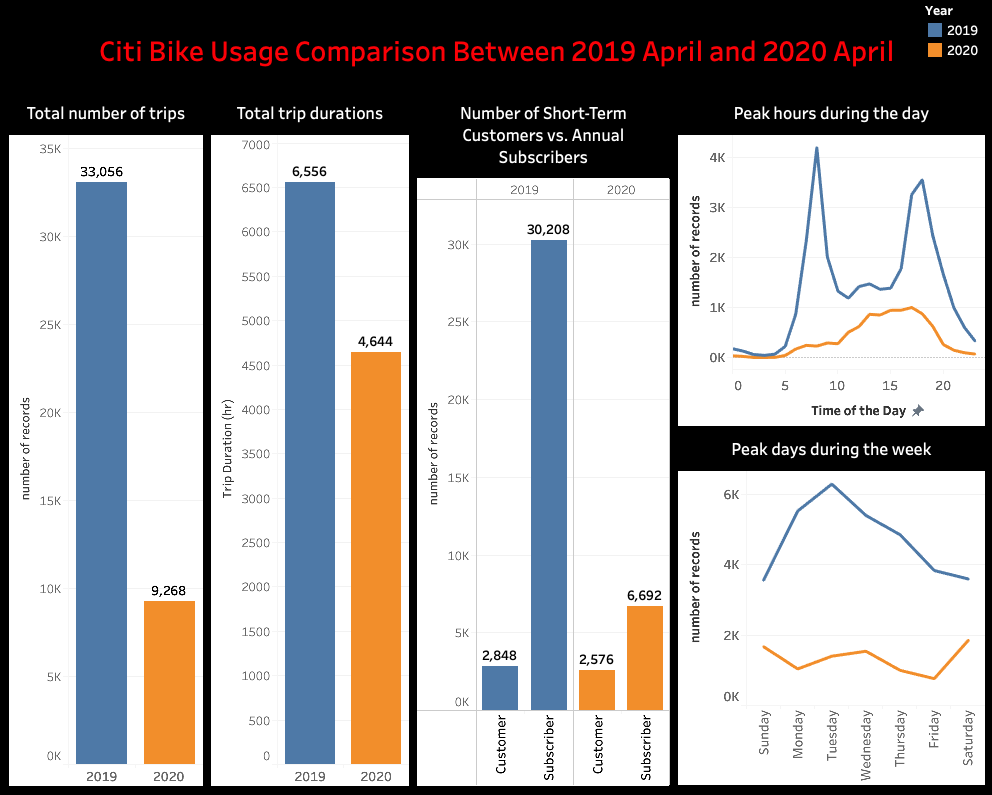

The dashboard page shown, as its layout file describes it:
{"tool":"tableau","page":{"name":"YearComparison","canvas":[1000,800],"ordinal":3},"visuals":[{"type":"worksheet","box":[0,0,1000,800]},{"type":"worksheet","title":"total trip duration","mark":"Bar","rows":["Calculation_1009580400850481153"],"cols":["starttime"],"param":"[federated.1u2xchn0cxnp1e1ckx9i2159srjd].[yr:starttime:ok]","box":[928,3,69,64]},{"type":"worksheet","param":"horz","box":[8,8,984,784]},{"type":"worksheet","param":"vert","box":[8,8,984,784]},{"type":"worksheet","box":[8,8,984,88]},{"type":"worksheet","param":"horz","box":[8,96,984,696]},{"type":"worksheet","box":[8,96,984,696]},{"type":"worksheet","param":"horz","box":[8,96,408,696]},{"type":"worksheet","title":"number of trips","mark":"Bar","rows":["Calculation_1009580400846733312"],"cols":["starttime"],"box":[8,96,202,696]},{"type":"worksheet","title":"total trip duration","mark":"Bar","rows":["Calculation_1009580400850481153"],"cols":["starttime"],"box":[210,96,206,696]},{"type":"worksheet","param":"horz","box":[416,96,261,696]},{"type":"worksheet","title":"usertype","mark":"Bar","rows":["Calculation_1009580400846733312"],"cols":["starttime","usertype"],"box":[416,96,261,696]},{"type":"worksheet","param":"vert","box":[677,96,315,696]},{"type":"worksheet","param":"horz","box":[677,96,315,696]},{"type":"worksheet","param":"vert","box":[677,96,315,696]},{"type":"worksheet","title":"peak hours","mark":"Automatic","rows":["Calculation_1009580400846733312"],"cols":["starttime"],"box":[677,96,315,336.5]},{"type":"worksheet","param":"vert","box":[677,432.5,315,359.5]},{"type":"worksheet","title":"peak days","mark":"Automatic","rows":["Calculation_1009580400846733312"],"cols":["starttime"],"box":[677,432.5,315,359.5]}]}

Visuals, with their boxes in screenshot pixels (x1, y1, x2, y2), scaled from the page's 1000x800 canvas onto the 992x795 screenshot:
worksheet: 0/0/991/794
"total trip duration" worksheet (Bar marks): 921/3/989/67
worksheet: 8/8/984/787
worksheet: 8/8/984/787
worksheet: 8/8/984/95
worksheet: 8/95/984/787
worksheet: 8/95/984/787
worksheet: 8/95/413/787
"number of trips" worksheet (Bar marks): 8/95/208/787
"total trip duration" worksheet (Bar marks): 208/95/413/787
worksheet: 413/95/672/787
"usertype" worksheet (Bar marks): 413/95/672/787
worksheet: 672/95/984/787
worksheet: 672/95/984/787
worksheet: 672/95/984/787
"peak hours" worksheet: 672/95/984/430
worksheet: 672/430/984/787
"peak days" worksheet: 672/430/984/787
